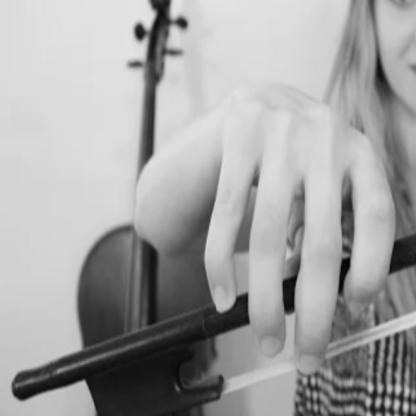bad: (189, 102, 405, 383)
